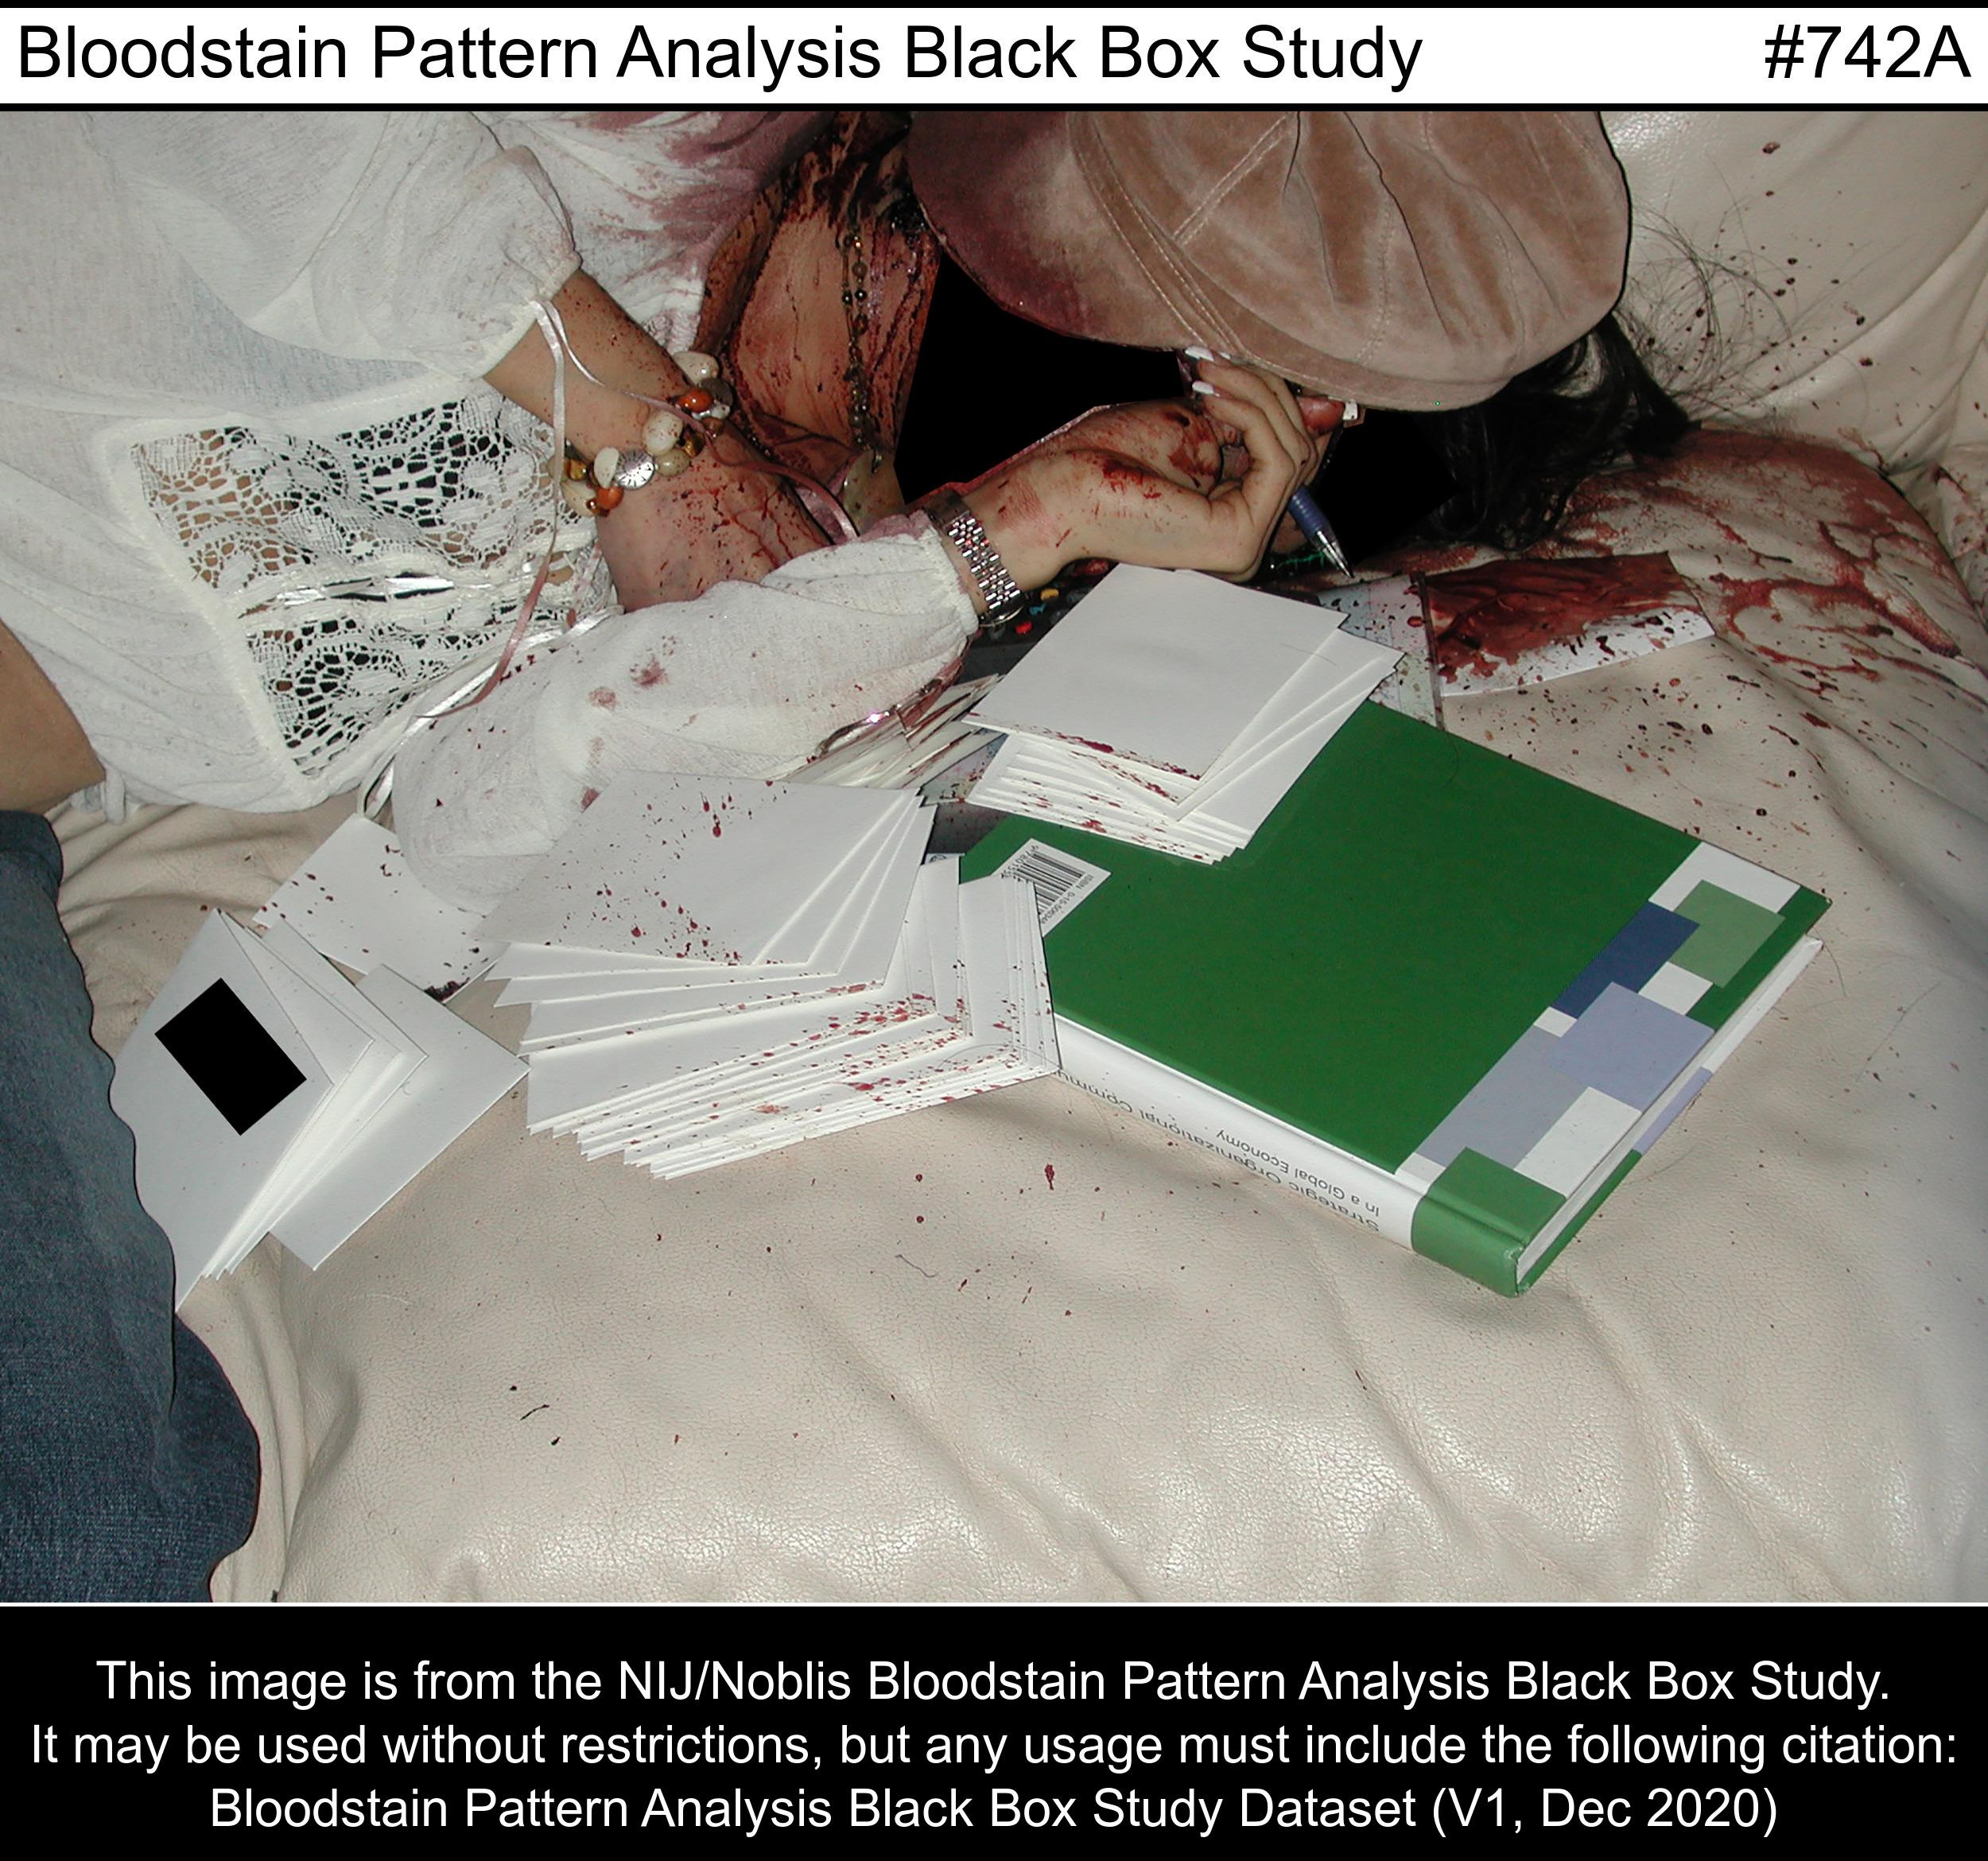Transfer: (1708, 409, 1943, 672), (1390, 546, 1700, 693)
